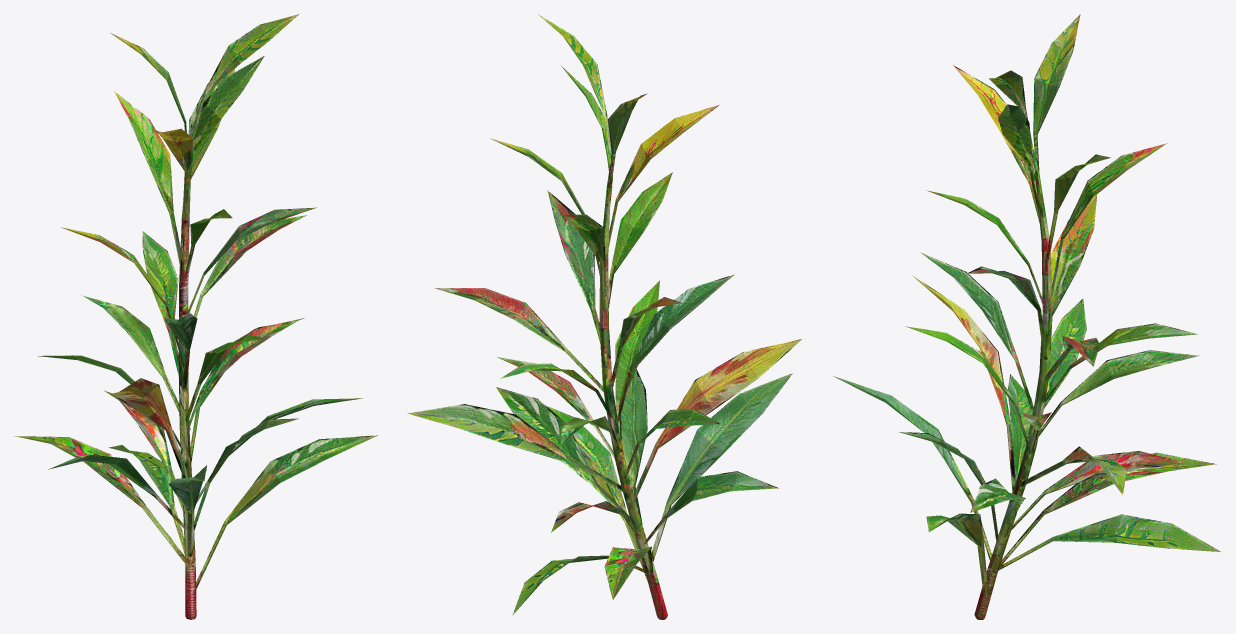
File: Jungle_Plant_0502171959.glb
The picture shows the model from 3 angles, left to right: view 1: azimuth 30°, elevation 25°; view 2: azimuth 150°, elevation 25°; view 3: azimuth 270°, elevation 25°; orthographic projection. The views are drawn at different scales.
Bounding box in the file's own units: 0.5716 × 1 × 0.5901.
1 material, 1 textured.
